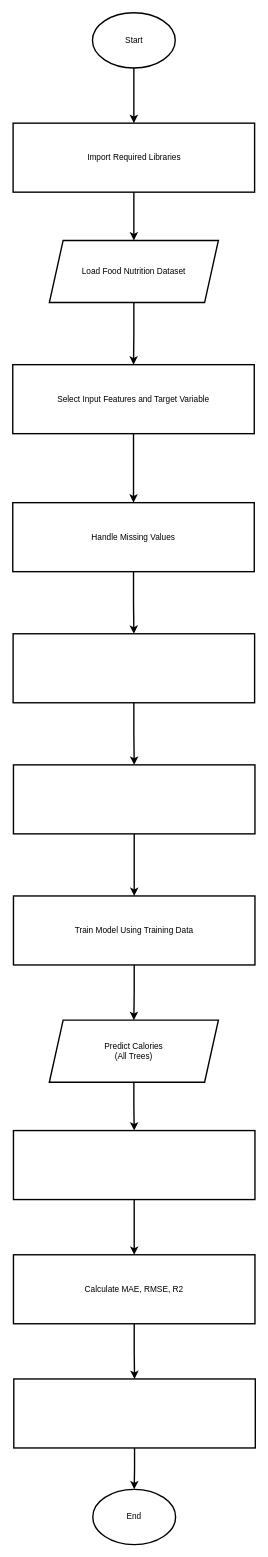
Some shapes in this 268 by 1557 pixel diagram are drawn without their labels. The shapes that lost their labels are listed below. From the top down, each one's centre as x and y in pixels, then its label:
pixel 133 668: Split Dataset into Training and Testing Sets
pixel 133 799: Initialize Random Forest (Multiple Trees)
pixel 133 1165: Average Predictions
pixel 134 1413: Store Evaluation Results
